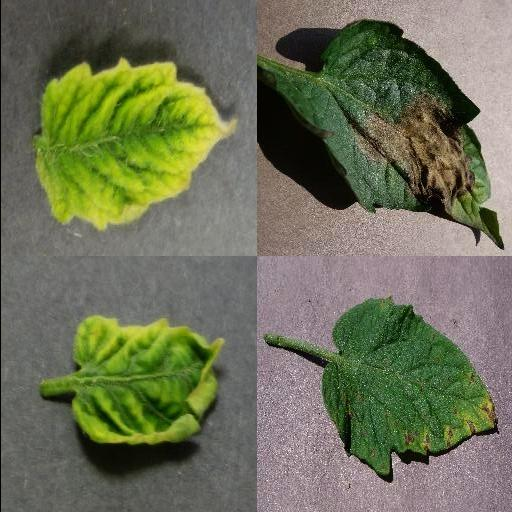Late Blight: (256, 17, 504, 249)
Septoria: (318, 298, 496, 476)
Yellow Leaf Curl Virus: (33, 58, 237, 232), (70, 314, 224, 446)
